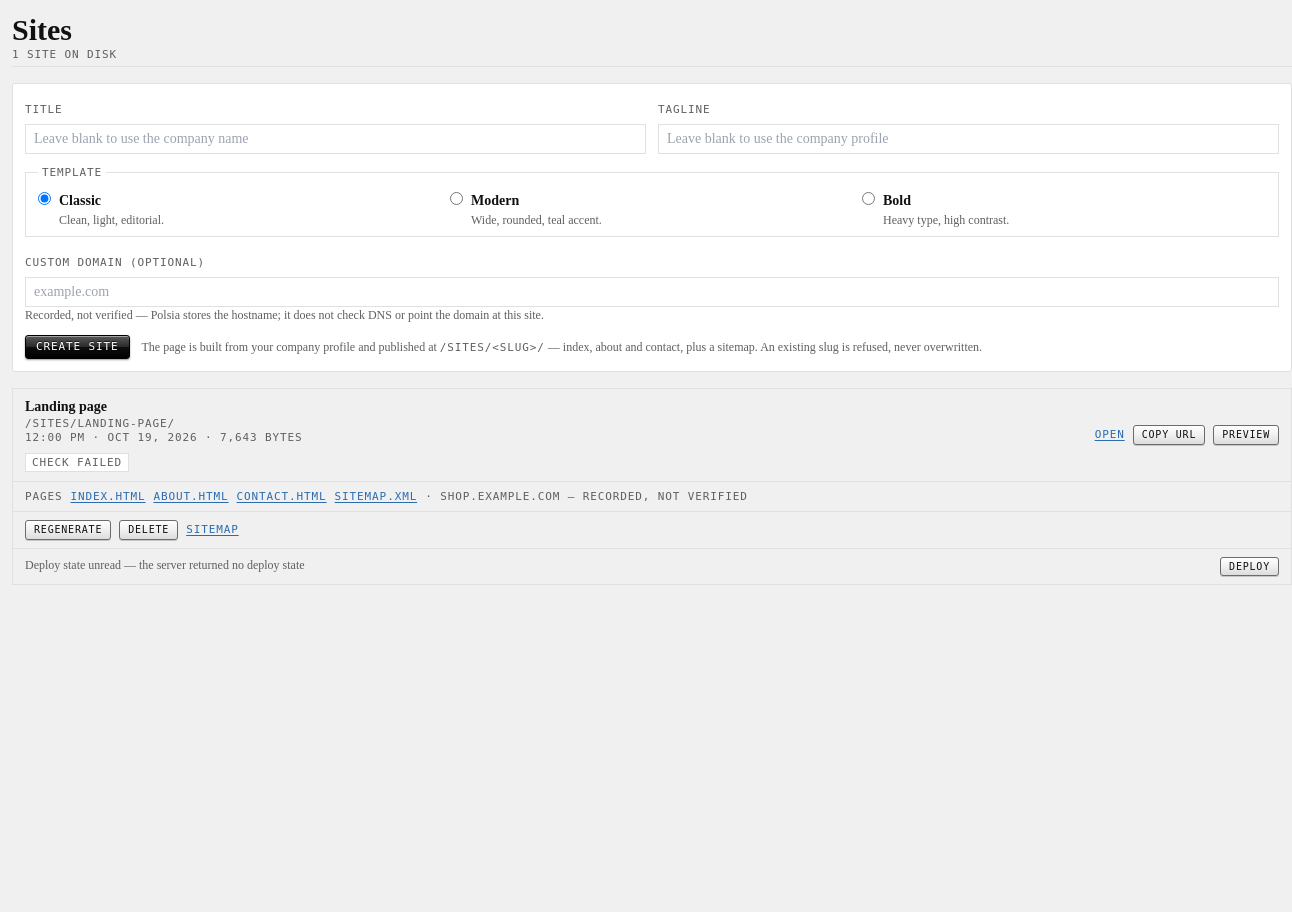
Test: /sites — the regenerate control › names a failed regenerate inline
This screenshot has width=1292, height=912.
Click the button with aria-label "Regenerate Landing page" at [68, 530], box x1=25 y1=520 x2=111 y2=540
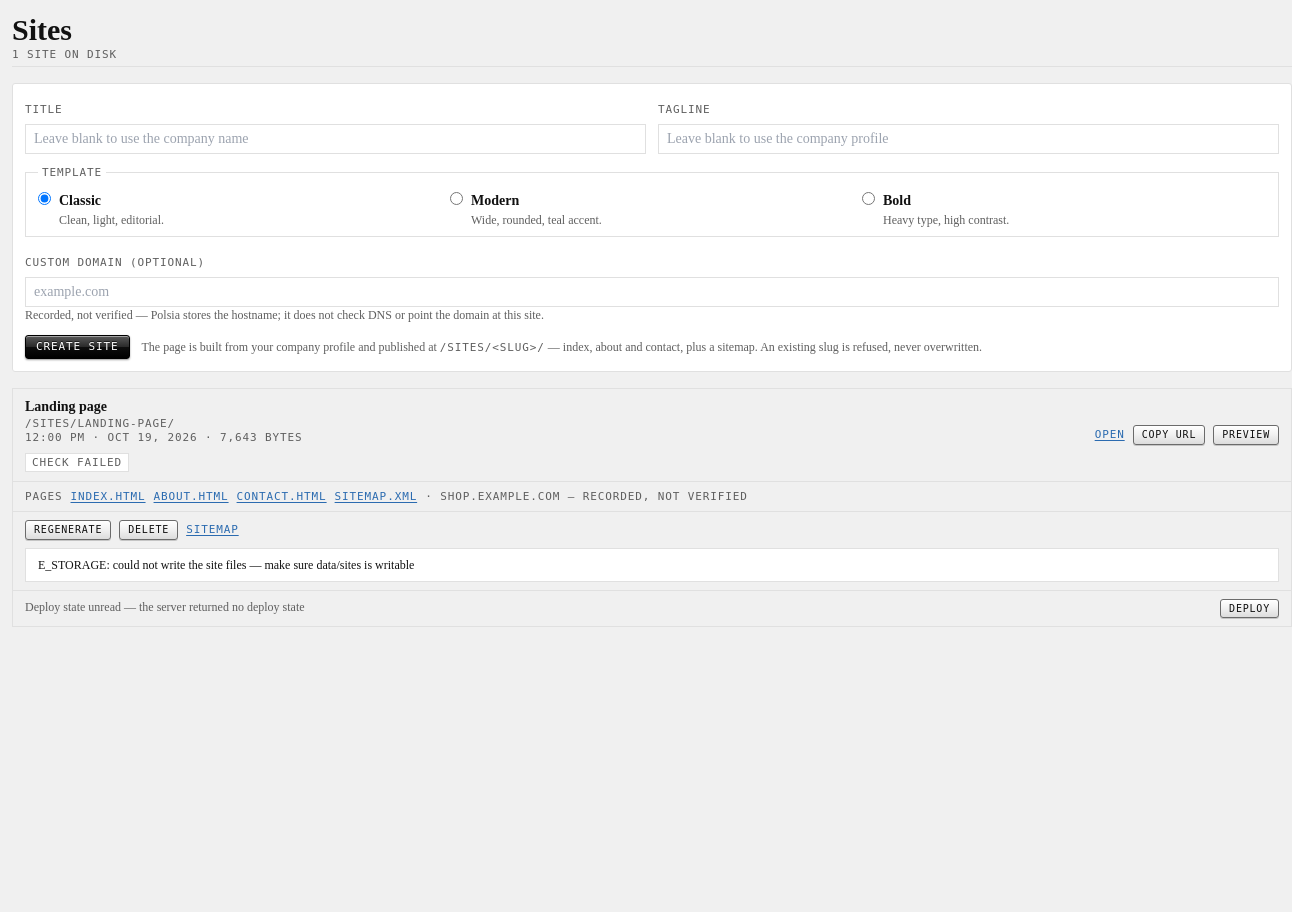
Check: the message with test id "site-lifecycle-error-landing-page" shows "E_STORAGE", box x1=38 y1=558 x2=414 y2=572
Check: the message with test id "site-lifecycle-error-landing-page" shows "writable", box x1=38 y1=558 x2=414 y2=572
